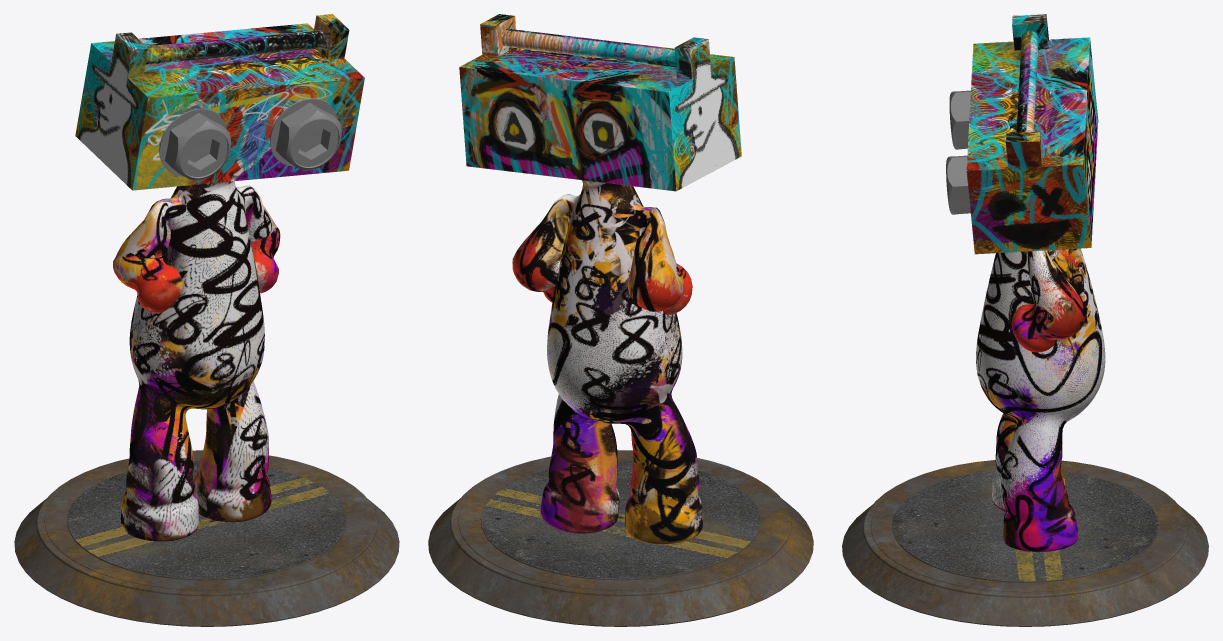
3 renders of one model, left to right at view 1: azimuth 30°, elevation 25°; view 2: azimuth 150°, elevation 25°; view 3: azimuth 270°, elevation 25°, orthographic. The views are drawn at different scales.
Visible parts, largest first — view 1: BBody; view 2: BBody; view 3: BBody.
Part boxes in pixels (x1,y1,x2,y2): BBody: [14, 14, 399, 626]; BBody: [428, 14, 813, 626]; BBody: [842, 14, 1208, 626].
Bounding box in the file's own units: 1.45 × 2.17 × 1.45.
Materials: 5 (4 with a texture image).
